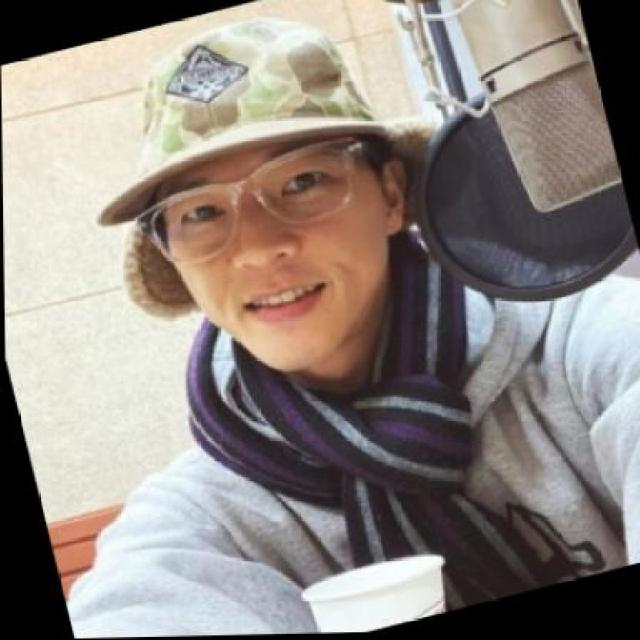hat: (51, 0, 432, 245)
